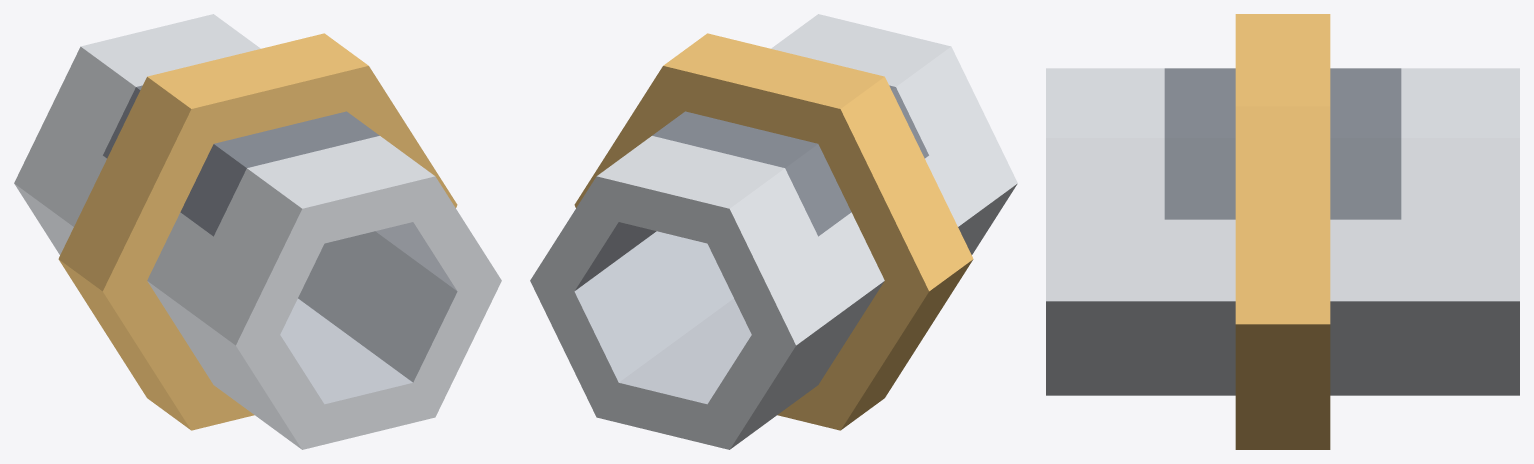
Rendered from pipe_ring.glb.
The picture shows the model from 3 angles, left to right: view 1: azimuth 30°, elevation 25°; view 2: azimuth 150°, elevation 25°; view 3: azimuth 270°, elevation 25°; orthographic projection. The views are drawn at different scales.
Parts seen in each view (by area): view 1: pipe_ring; view 2: pipe_ring; view 3: pipe_ring.
Boxes of the visible parts, x1,y1,x2,y2 form: pipe_ring: (14,14,501,449); pipe_ring: (530,14,1017,449); pipe_ring: (1046,14,1519,449).
Bounding box in the file's own units: 0.9238 × 0.8 × 1.
